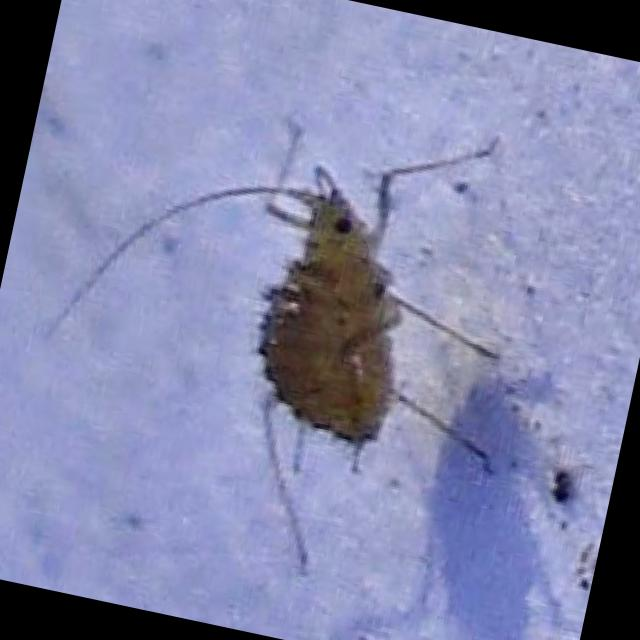aphid: (175, 119, 552, 564)
